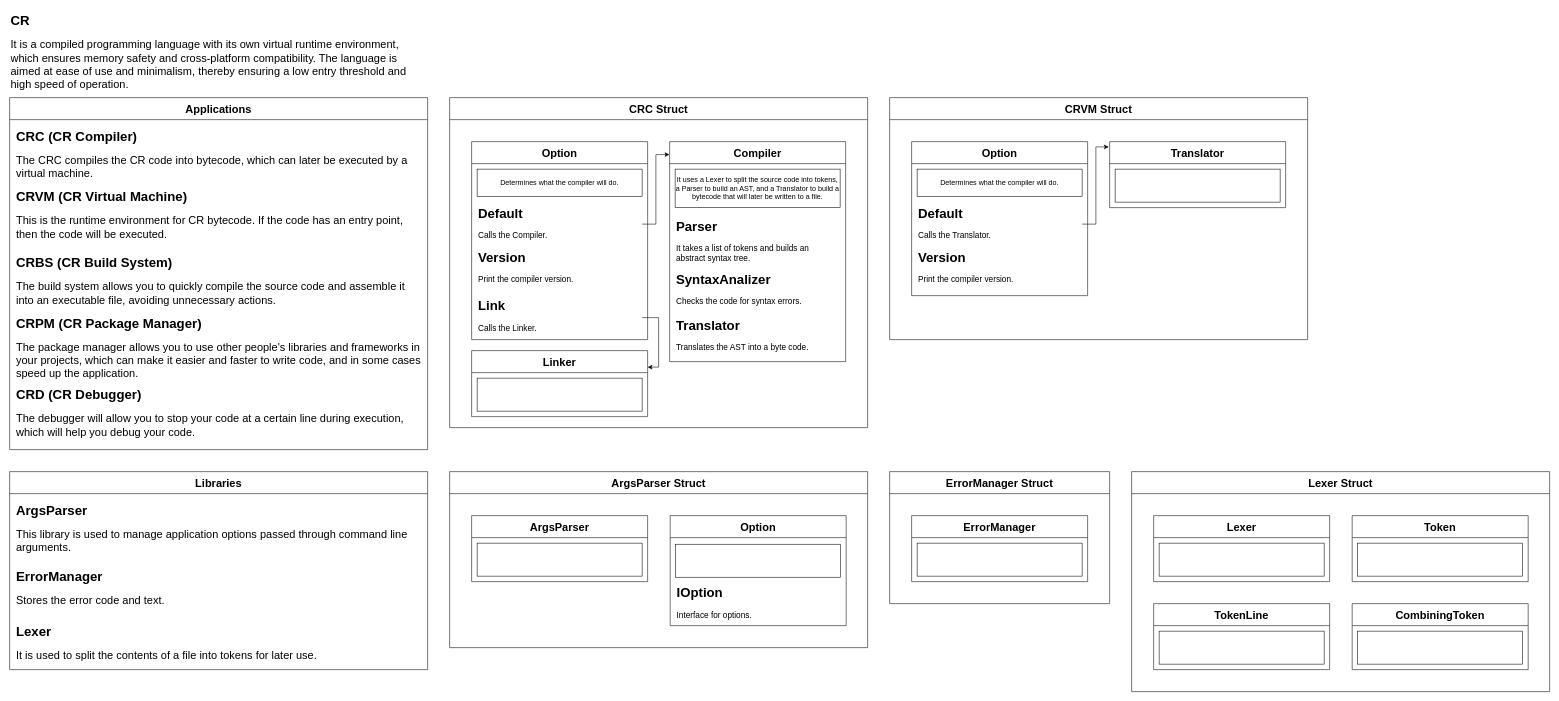
The diagram is 1559 pixels wide and 701 high, and some of its shapes have lost their labels. The centre of each missing label's shape, as x and y in pixels:
"Builds all previously compiled files into an executable file." belongs at [559,394].
"Calls the commands written in the executable file one at a time." belongs at [1197,185].
"Defined a list of errors and stops the program if an error is caused." belongs at [999,559].
"Defines a string of tokens." belongs at [1241,647].
"Defines the combining tokens." belongs at [1440,647].
"Defines the interface for the options that can be invoked." belongs at [758,560].
"Defines the token structure." belongs at [1440,559].
"Receives command line arguments and invokes certain options." belongs at [559,559].
"Splits the contents of the file into tokens." belongs at [1241,559].
